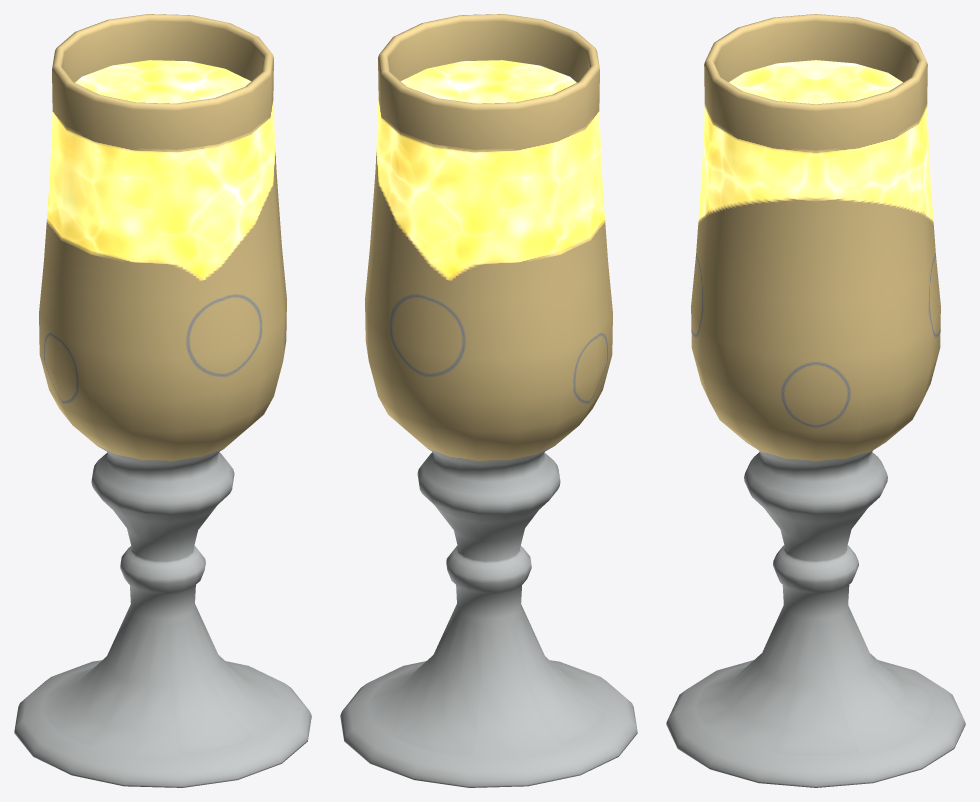
The model's file is BarCocktails02_1.FBX.
3 renders of one model, left to right at view 1: azimuth 30°, elevation 25°; view 2: azimuth 150°, elevation 25°; view 3: azimuth 270°, elevation 25°, orthographic.
Parts seen in each view (by area): view 1: BarCocktails02_1; view 2: BarCocktails02_1; view 3: BarCocktails02_1.
Part boxes in pixels (left/top/right/bottom): BarCocktails02_1: left=14, top=14, right=311, bottom=787; BarCocktails02_1: left=340, top=14, right=637, bottom=787; BarCocktails02_1: left=666, top=14, right=965, bottom=787.
Size of what is drawn, in the model's own units: 0.0813 by 0.1993 by 0.0813.
